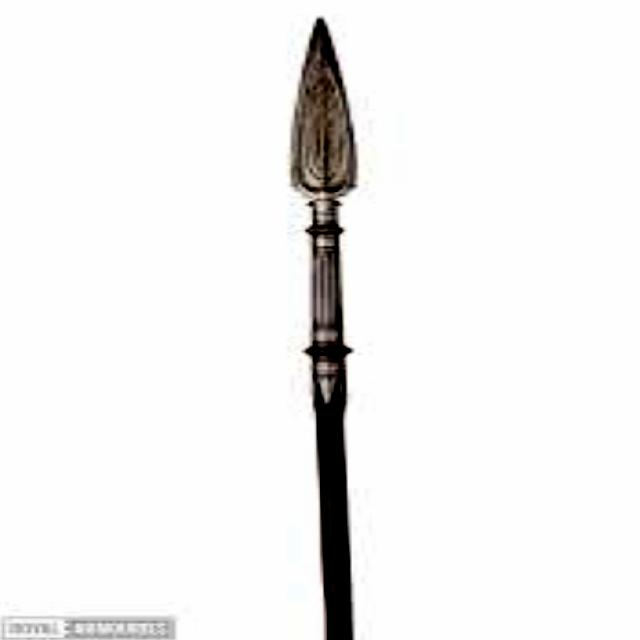spear: (243, 1, 432, 634)
